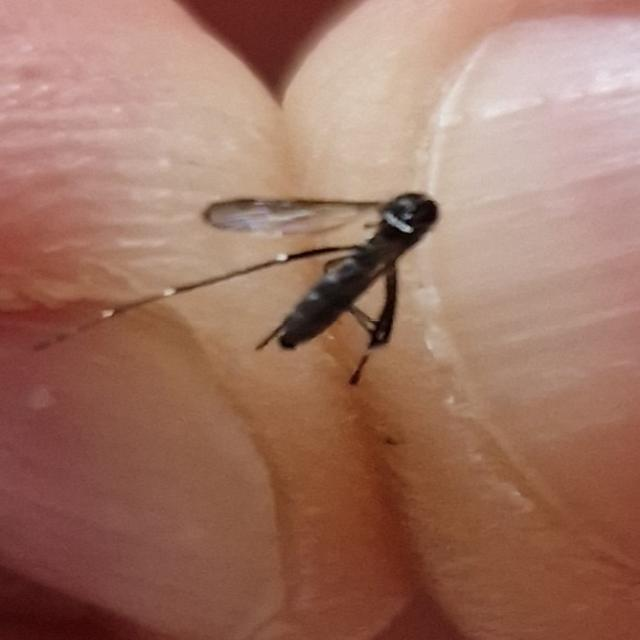albopictus: (72, 174, 438, 400)
